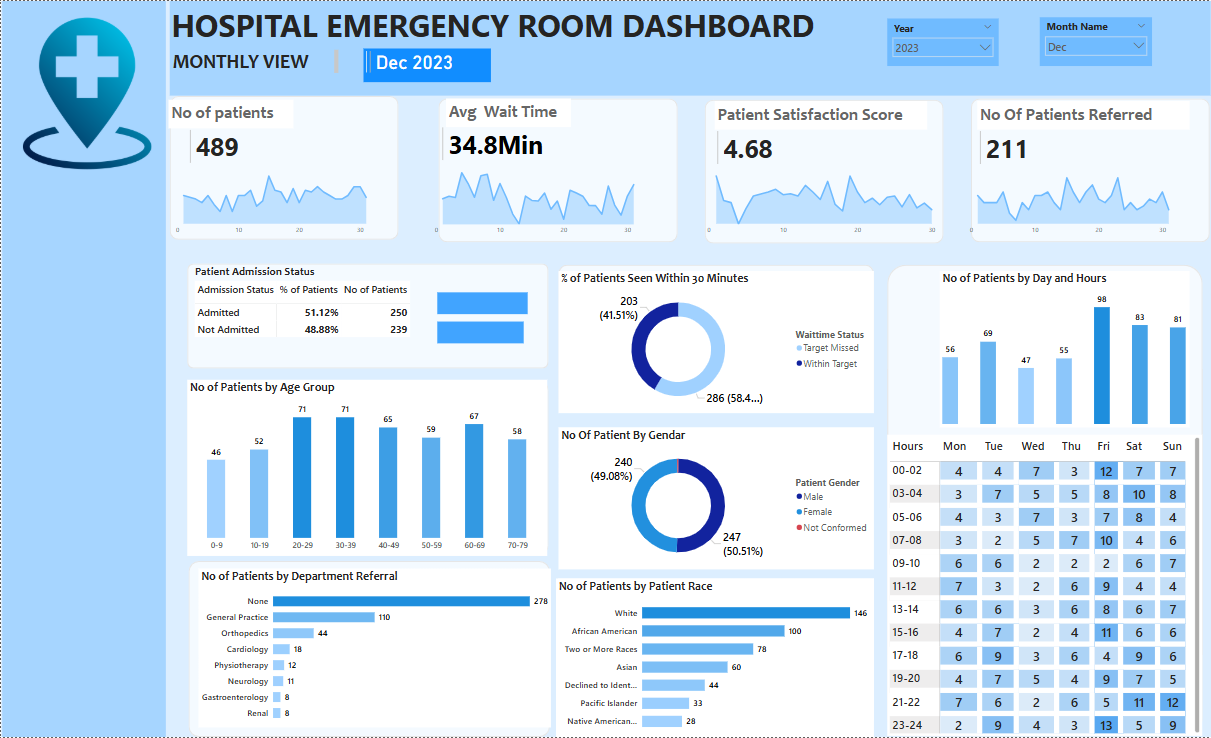

This screenshot's page, from the dashboard's own definition file:
{"tool":"powerbi","page":{"name":"Monthly View","canvas":[2300,1400],"ordinal":0},"visuals":[{"type":"shape","box":[2.4,0,311.5,1400.5],"z":0},{"type":"shape","box":[320.5,0,1980,180],"z":1000},{"type":"textbox","box":[318.6,0,1293.5,104.6],"z":2000},{"type":"textbox","box":[321,88,325.7,54.7],"z":3000},{"type":"shape","box":[321,180.7,435.1,273.4],"z":4000},{"type":"slicer","fields":{"Values":["Date Table.Year"]},"box":[1685.8,33.3,211.6,90.4],"z":5000},{"type":"slicer","fields":{"Values":["Date Table.Month Name"]},"box":[1975.9,30.9,214,92.7],"z":6000},{"type":"multiRowCard","fields":{"Values":["Hospital ER_Data.No of Patients"]},"box":[354.3,240.2,130.8,78.5],"z":7000},{"type":"textbox","box":[318.6,187.8,237.8,54.7],"z":8000},{"type":"areaChart","fields":{"Category":["Date Table.Date.Variation.Date Hierarchy.Day"],"Y":["Hospital ER_Data.No of Patients"]},"box":[321,309.1,435.1,145],"z":9000},{"type":"multiRowCard","fields":{"Values":["Date Table.Month & Year"]},"box":[689.5,90.4,242.5,64.2],"z":10000},{"type":"shape","box":[832.2,185.5,455,273.4],"z":11000},{"type":"shape","box":[1338.7,187.8,454.1,273.4],"z":12000},{"type":"shape","box":[1845.1,185.5,454.1,273.4],"z":13000},{"type":"areaChart","fields":{"Category":["Date Table.Date.Variation.Date Hierarchy.Day"],"Y":["Avg(Hospital ER_Data.Patient Waittime)"]},"box":[813.2,309.1,454.1,145],"z":14000},{"type":"multiRowCard","fields":{"Values":["Hospital ER_Data.Avg Wait Time"]},"box":[834.6,235.4,225.9,73],"z":15000},{"type":"textbox","box":[846.5,185.5,237.8,54.7],"z":16000},{"type":"textbox","box":[1357.7,190.2,404.2,54.7],"z":17000},{"type":"multiRowCard","fields":{"Values":["Hospital ER_Data.Satisfaction Score"]},"box":[1357.7,242.5,225.9,73.7],"z":18000},{"type":"areaChart","fields":{"Category":["Date Table.Date.Variation.Date Hierarchy.Day"],"Y":["Hospital ER_Data.Satisfaction Score"]},"box":[1331.5,309.1,454.1,145],"z":19000},{"type":"textbox","box":[1856.5,190.7,404.2,54.7],"z":20000},{"type":"multiRowCard","fields":{"Values":["Hospital ER_Data.No Of Patient Referred"]},"box":[1856.5,243,225.9,73.7],"z":21000},{"type":"areaChart","fields":{"Category":["Date Table.Date.Variation.Date Hierarchy.Day"],"Y":["Hospital ER_Data.No Of Patient Referred"]},"box":[1830.9,309.1,454.1,145],"z":22000},{"type":"shape","box":[354.3,499.3,687.2,199.7],"z":23000},{"type":"pivotTable","title":"Patient Admission Status","fields":{"Rows":["Hospital ER_Data.Admission Status"],"Values":["Hospital ER_Data.No of Patients","Hospital ER_Data.No of Patients1"]},"box":[363.8,501.7,468.4,199.7],"z":24000},{"type":"barChart","fields":{"Category":["Hospital ER_Data.Admission Status"],"Y":["Hospital ER_Data.No of Patients"]},"box":[825.1,513.6,216.4,173.6],"z":25000},{"type":"shape","box":[355,720,687.5,335],"z":26000},{"type":"clusteredColumnChart","fields":{"Category":["Hospital ER_Data.Age Group"],"Y":["Hospital ER_Data.No of Patients"]},"box":[355,720,685,335],"z":27000},{"type":"shape","box":[357.5,1065,687.5,335],"z":28000},{"type":"clusteredBarChart","fields":{"Category":["Hospital ER_Data.Department Referral"],"Y":["Hospital ER_Data.No of Patients"]},"box":[375,1080,670,302.5],"z":29000},{"type":"shape","box":[1060,502.5,600,270],"z":30000},{"type":"donutChart","title":"% of Patients Seen Within 30 Minutes","fields":{"Category":["Hospital ER_Data.Waittime Status"],"Y":["Hospital ER_Data.No of Patients"]},"box":[1060,512.5,600,270],"z":31000},{"type":"donutChart","title":"No Of Patient By Gendar","fields":{"Y":["Hospital ER_Data.No of Patients"],"Category":["Hospital ER_Data.Patient Gender"]},"box":[1060,810,600,270],"z":32000},{"type":"donutChart","title":"No Of Patient By Gendar","fields":{"Y":["Hospital ER_Data.No of Patients"],"Category":["Hospital ER_Data.Patient Gender"]},"box":[1060,1097.5,600,270],"z":33000},{"type":"clusteredBarChart","fields":{"Y":["Hospital ER_Data.No of Patients"],"Category":["Hospital ER_Data.Patient Race"]},"box":[1055,1097.5,605,302.5],"z":34000},{"type":"shape","box":[1685,502.5,600,897.5],"z":35000},{"type":"pivotTable","fields":{"Rows":["Hospital ER_Data.Waittime Interval"],"Columns":["Date Table.Day Name"],"Values":["Hospital ER_Data.No of Patients"]},"box":[1685.8,825.1,599.2,573],"z":36000},{"type":"columnChart","title":"No of Patients by Day and Hours","fields":{"Category":["Date Table.Day Name"],"Y":["Hospital ER_Data.No of Patients"]},"box":[1785.7,513.6,475.5,297.2],"z":37000},{"type":"image","box":[14.3,26.2,299.6,299.6],"z":38000}]}

Visuals, with their boxes in screenshot pixels (x1, y1, x2, y2), scaled from the page's 2300x1400 canvas onto the 1211x738 screenshot:
shape: box=[1, 0, 165, 737]
shape: box=[169, 0, 1210, 95]
textbox: box=[168, 0, 849, 55]
textbox: box=[169, 46, 341, 75]
shape: box=[169, 95, 398, 239]
slicer - Date Table.Year: box=[888, 18, 999, 65]
slicer - Date Table.Month Name: box=[1040, 16, 1153, 65]
multiRowCard - Hospital ER_Data.No of Patients: box=[187, 127, 255, 168]
textbox: box=[168, 99, 293, 128]
areaChart - Date Table.Date.Variation.Date Hierarchy.Day x Hospital ER_Data.No of Patients: box=[169, 163, 398, 239]
multiRowCard - Date Table.Month & Year: box=[363, 48, 491, 81]
shape: box=[438, 98, 678, 242]
shape: box=[705, 99, 944, 243]
shape: box=[971, 98, 1210, 242]
areaChart - Date Table.Date.Variation.Date Hierarchy.Day x Avg(Hospital ER_Data.Patient Waittime): box=[428, 163, 667, 239]
multiRowCard - Hospital ER_Data.Avg Wait Time: box=[439, 124, 558, 163]
textbox: box=[446, 98, 571, 127]
textbox: box=[715, 100, 928, 129]
multiRowCard - Hospital ER_Data.Satisfaction Score: box=[715, 128, 834, 167]
areaChart - Date Table.Date.Variation.Date Hierarchy.Day x Hospital ER_Data.Satisfaction Score: box=[701, 163, 940, 239]
textbox: box=[977, 101, 1190, 129]
multiRowCard - Hospital ER_Data.No Of Patient Referred: box=[977, 128, 1096, 167]
areaChart - Date Table.Date.Variation.Date Hierarchy.Day x Hospital ER_Data.No Of Patient Referred: box=[964, 163, 1203, 239]
shape: box=[187, 263, 548, 368]
"Patient Admission Status" pivotTable: box=[192, 264, 438, 370]
barChart - Hospital ER_Data.Admission Status x Hospital ER_Data.No of Patients: box=[434, 271, 548, 362]
shape: box=[187, 380, 549, 556]
clusteredColumnChart - Hospital ER_Data.Age Group x Hospital ER_Data.No of Patients: box=[187, 380, 548, 556]
shape: box=[188, 561, 550, 737]
clusteredBarChart - Hospital ER_Data.Department Referral x Hospital ER_Data.No of Patients: box=[197, 569, 550, 729]
shape: box=[558, 265, 874, 407]
"% of Patients Seen Within 30 Minutes" donutChart: box=[558, 270, 874, 412]
"No Of Patient By Gendar" donutChart: box=[558, 427, 874, 569]
"No Of Patient By Gendar" donutChart: box=[558, 579, 874, 721]
clusteredBarChart - Hospital ER_Data.No of Patients x Hospital ER_Data.Patient Race: box=[555, 579, 874, 737]
shape: box=[887, 265, 1203, 737]
pivotTable - Hospital ER_Data.Waittime Interval x Date Table.Day Name: box=[888, 435, 1203, 737]
"No of Patients by Day and Hours" columnChart: box=[940, 271, 1191, 427]
image: box=[8, 14, 165, 172]
